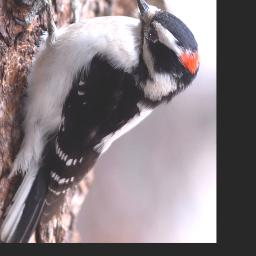Woodpecker: (0, 0, 204, 240)
